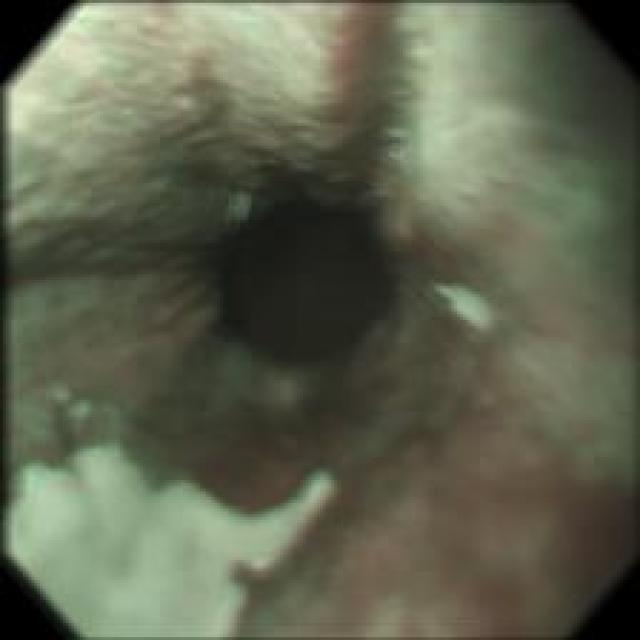blur: (1, 1, 638, 636), (11, 384, 338, 636), (411, 234, 606, 490)
contrast: (214, 185, 402, 372)
